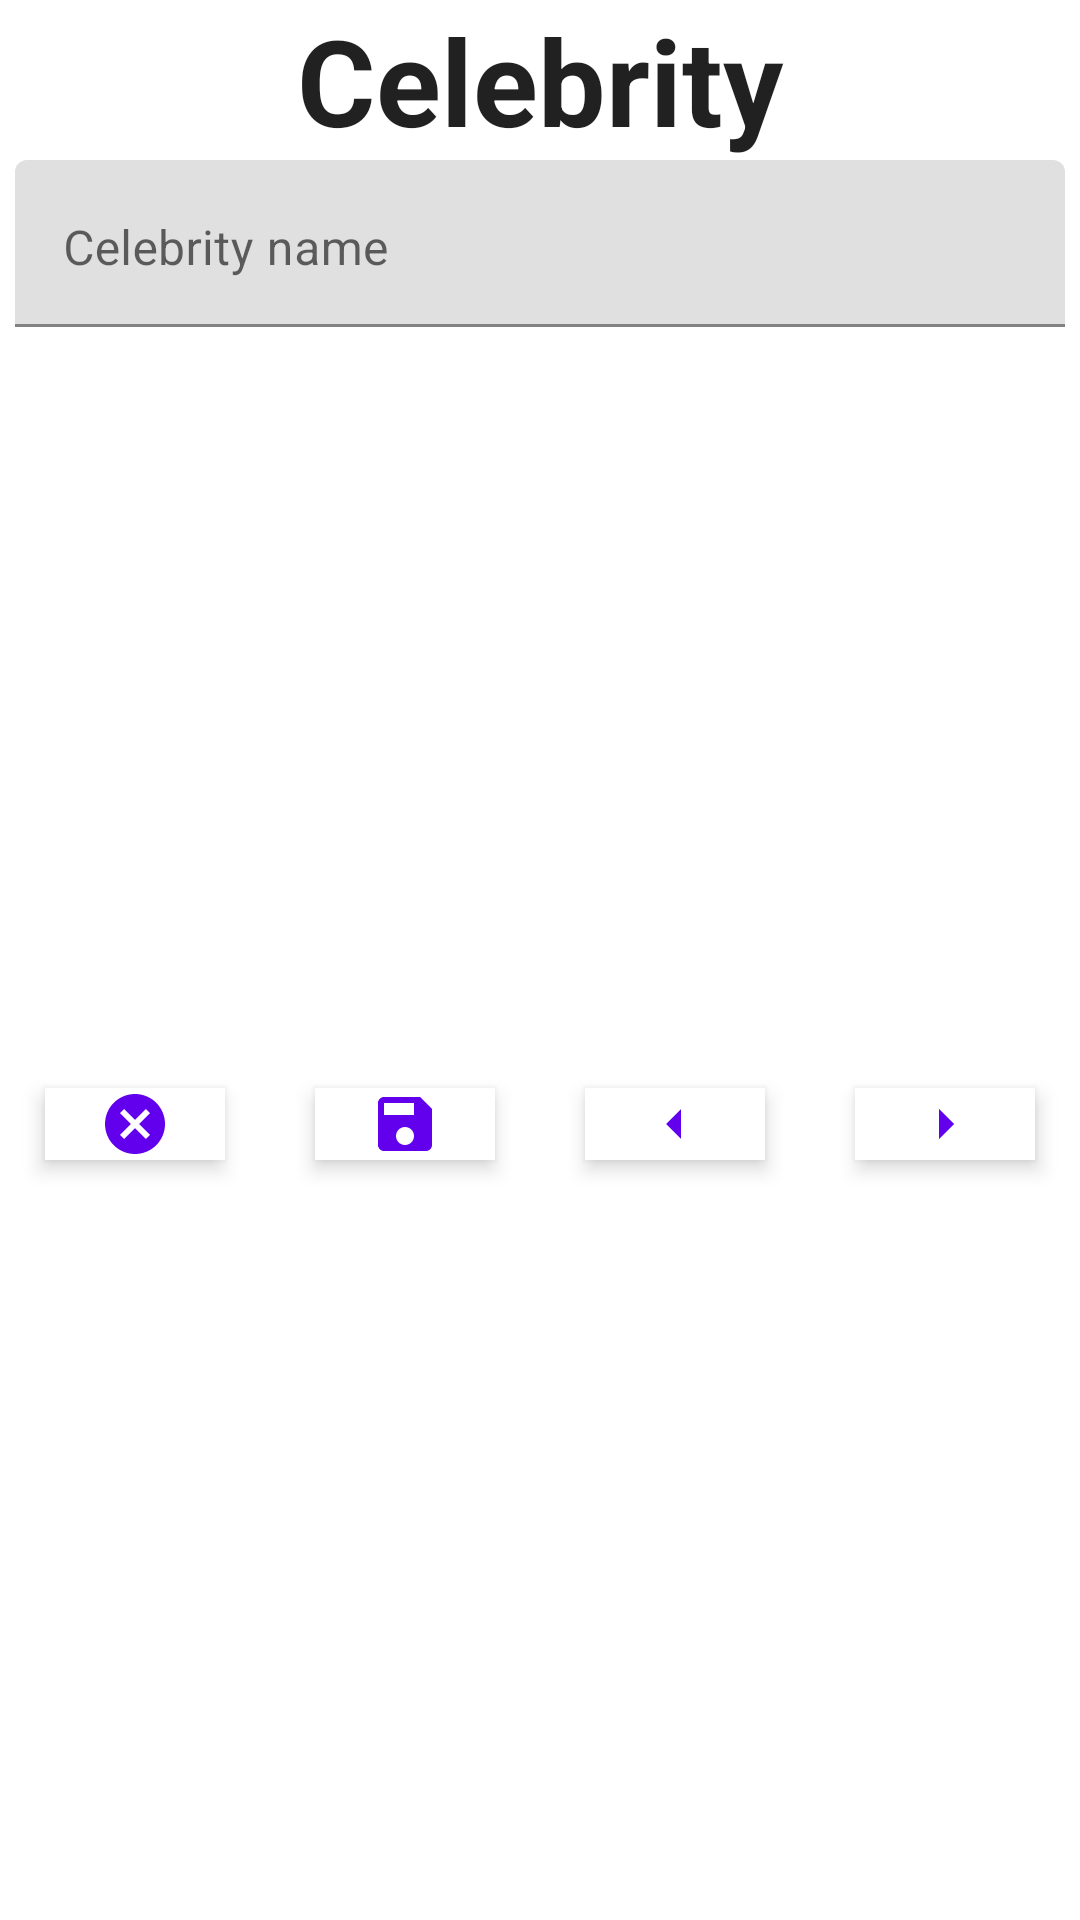

Point at icon controls on the screen. Image size 1080 x 1920, points as point (x, y).
arrow left: point (673, 1124)
arrow right: point (946, 1124)
cancel: point (135, 1124)
save: point (405, 1124)
